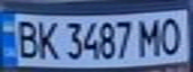3: (60, 19, 84, 61)
4: (81, 19, 100, 61)
7: (115, 18, 136, 60)
8: (97, 18, 118, 61)
B: (9, 17, 42, 60)
K: (33, 18, 60, 61)
M: (136, 16, 163, 57)
O: (157, 14, 187, 56)
